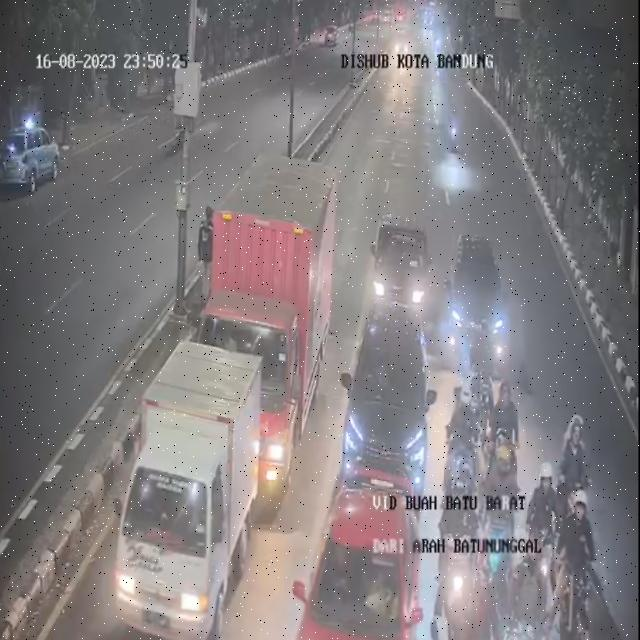cars: (162, 143, 340, 506), (114, 338, 266, 640), (338, 296, 436, 510), (294, 498, 422, 640), (446, 220, 517, 388), (367, 208, 430, 331)
motorcycle: (560, 487, 604, 640), (437, 480, 477, 640), (525, 460, 557, 640), (479, 446, 517, 578), (558, 402, 595, 533), (444, 382, 480, 511), (469, 320, 499, 440), (486, 376, 521, 470), (448, 107, 461, 152)
